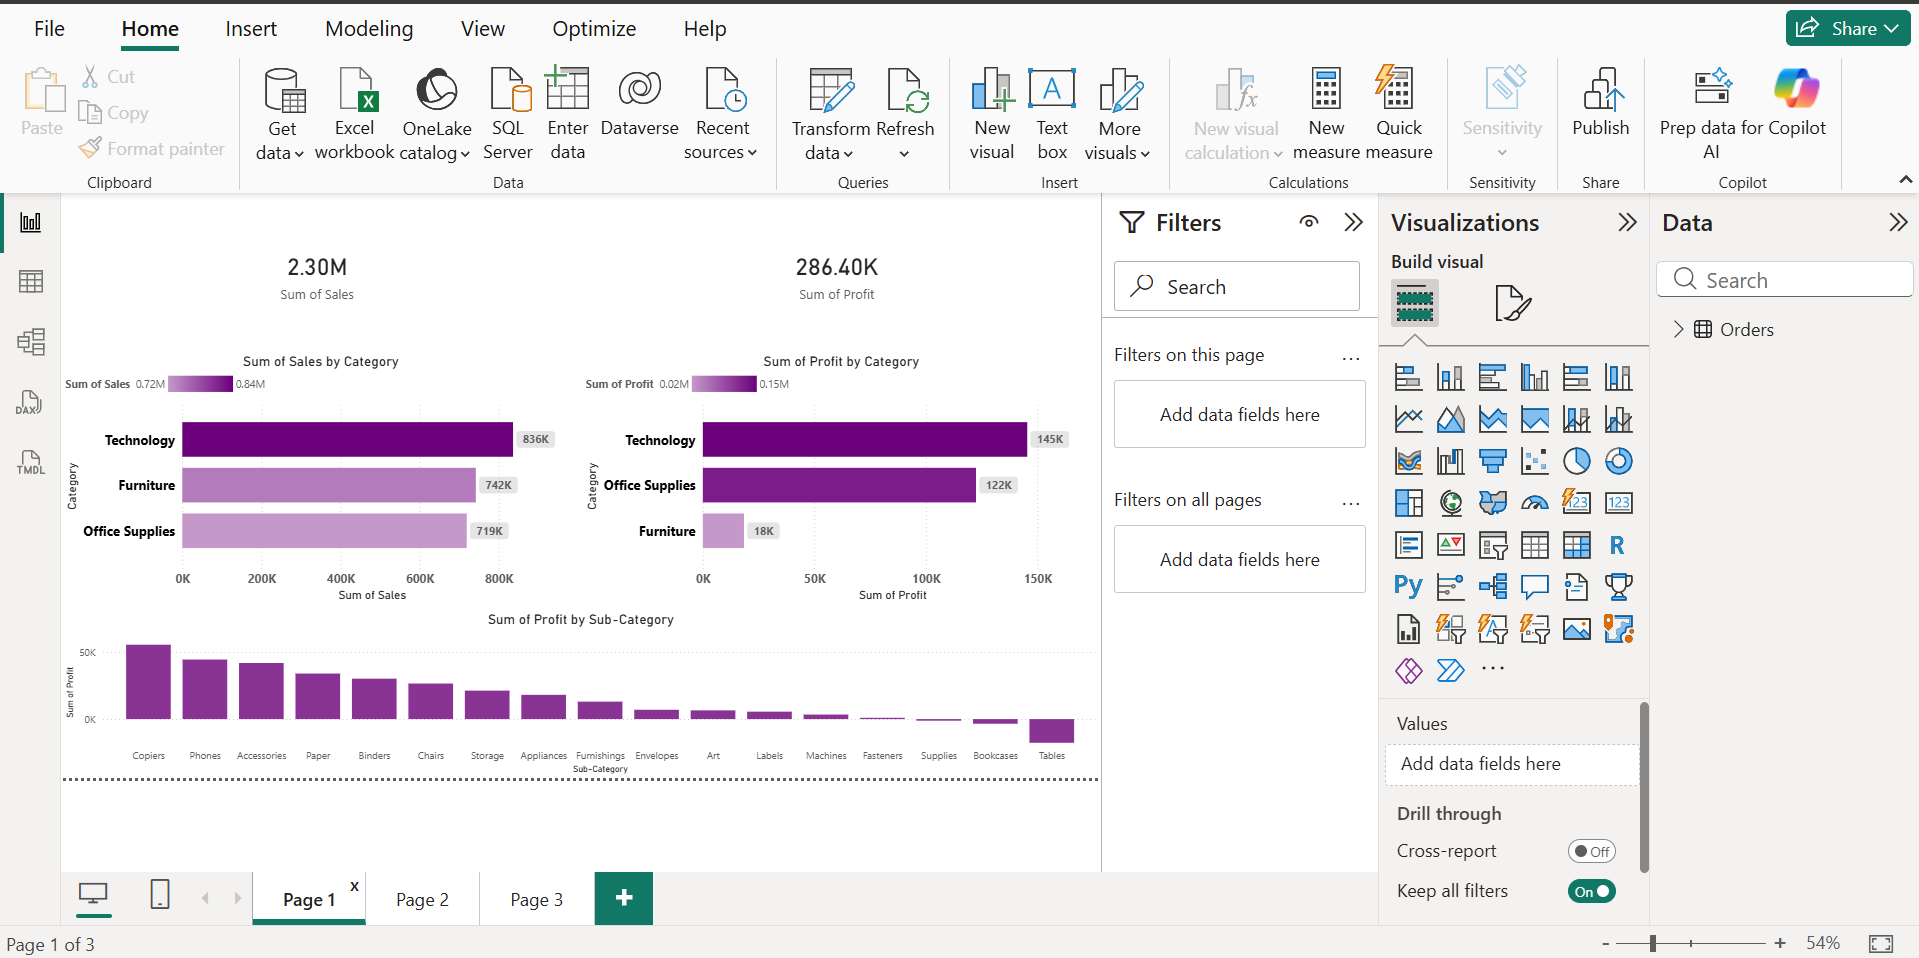

This screenshot's page, from the dashboard's own definition file:
{"tool":"powerbi","page":{"name":"Page 1","canvas":[1280,720],"ordinal":0},"visuals":[{"type":"barChart","fields":{"Category":["Orders.Category"],"Y":["Sum(Orders.Sales)"]},"box":[0,198,640,310],"z":0},{"type":"barChart","fields":{"Category":["Orders.Category"],"Y":["Sum(Orders.Profit)"]},"box":[640,198,640,310],"z":1000},{"type":"clusteredColumnChart","fields":{"Category":["Orders.Sub-Category"],"Y":["Sum(Orders.Profit)"]},"box":[0,516,1280,204],"z":2000},{"type":"card","fields":{"Values":["Sum(Orders.Sales)"]},"box":[0,0,434,198],"z":3000},{"type":"card","fields":{"Values":["Sum(Orders.Profit)"]},"box":[630,0,650,198],"z":4000},{"type":"card","fields":{"Values":["Sum(Orders.Sales)"]},"box":[0,0,630,198],"z":5000}]}

Visuals, with their boxes on the page's 1280x720 design canvas (x1, y1, x2, y2). These are canvas units, not pixel positions in the 1919x958 screenshot, which may show the page scaled, cropped or inside an application window:
barChart - Orders.Category x Sum(Orders.Sales): 0:198:640:508
barChart - Orders.Category x Sum(Orders.Profit): 640:198:1280:508
clusteredColumnChart - Orders.Sub-Category x Sum(Orders.Profit): 0:516:1280:720
card - Sum(Orders.Sales): 0:0:434:198
card - Sum(Orders.Profit): 630:0:1280:198
card - Sum(Orders.Sales): 0:0:630:198
